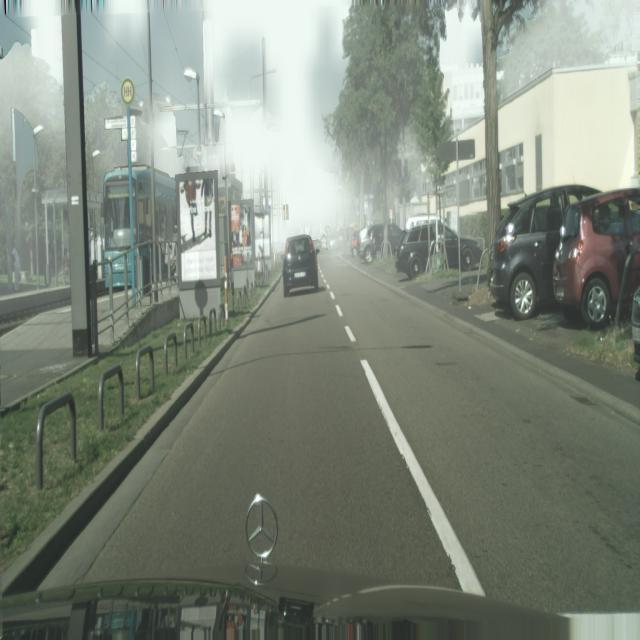motorcycle: (101, 164, 178, 291)
person: (12, 241, 21, 291)
truck: (487, 183, 601, 321), (551, 185, 640, 331), (394, 217, 483, 279), (282, 234, 318, 297), (357, 222, 403, 262), (631, 282, 640, 379)
